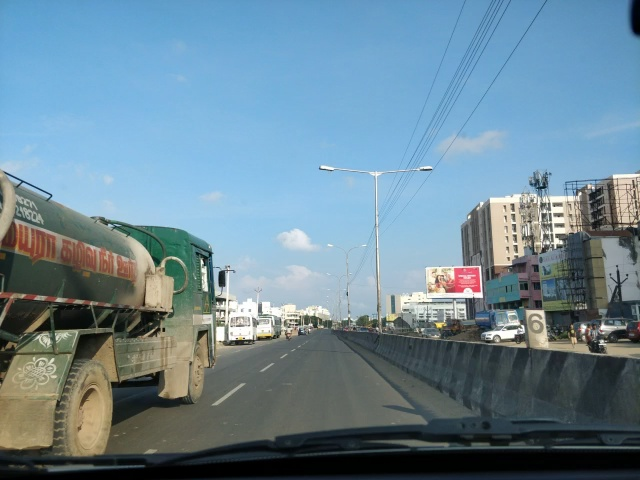bus: (228, 313, 255, 346), (254, 316, 284, 339)
car: (481, 321, 526, 343), (419, 328, 444, 349), (297, 325, 311, 337)
motorbike: (583, 321, 610, 369), (285, 322, 294, 342)
person: (566, 322, 579, 347)
truck: (1, 166, 228, 458)
